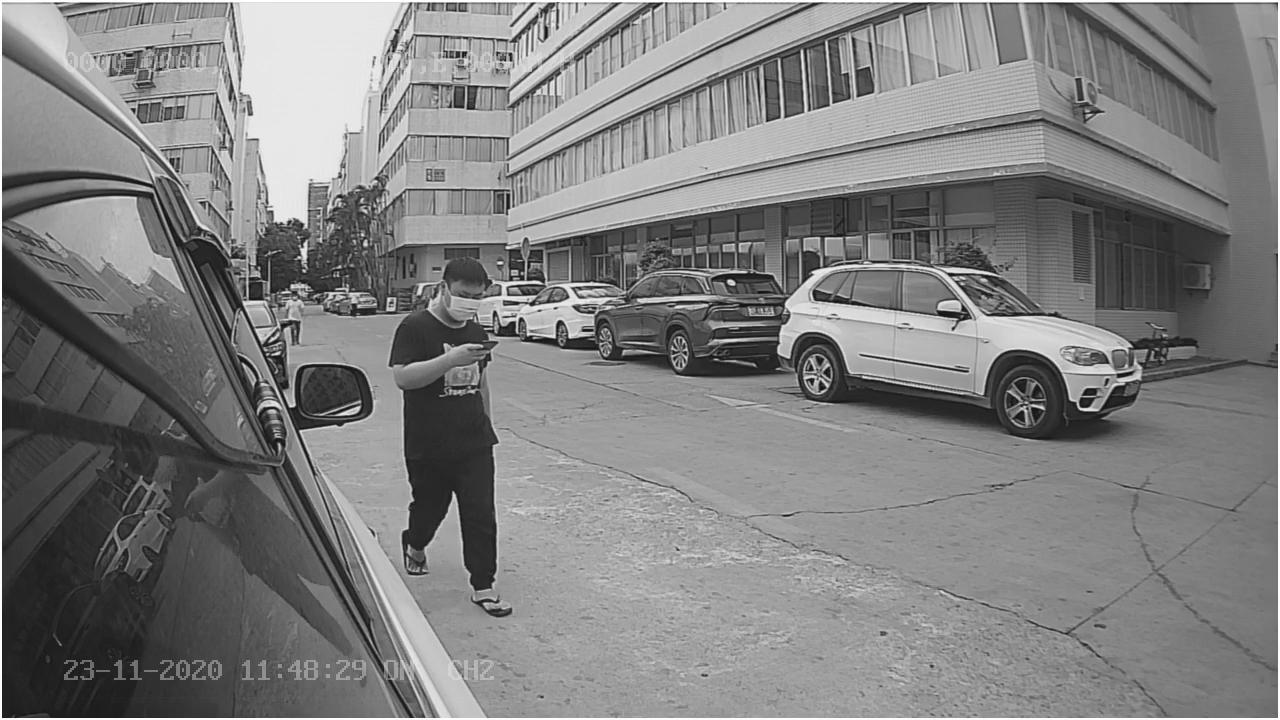person: (383, 253, 509, 412)
